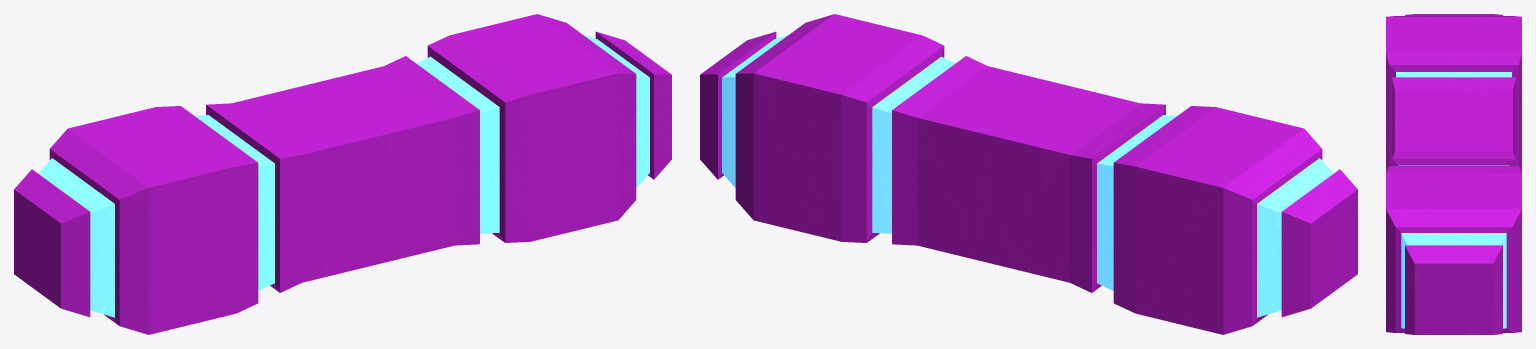
Rendered from wonkout_paddle.gltf.
The picture shows the model from 3 angles, left to right: view 1: azimuth 30°, elevation 25°; view 2: azimuth 150°, elevation 25°; view 3: azimuth 270°, elevation 25°; orthographic projection. The views are drawn at different scales.
Visible parts, largest first — view 1: Paddle; view 2: Paddle; view 3: Paddle.
Boxes of the visible parts, left/top/right/bottom form: Paddle: left=14, top=14, right=671, bottom=334; Paddle: left=700, top=14, right=1357, bottom=334; Paddle: left=1386, top=14, right=1521, bottom=334.
Size of the model in its own units: 5 by 1.15 by 1.15.
Materials: 1 (1 with a texture image).
